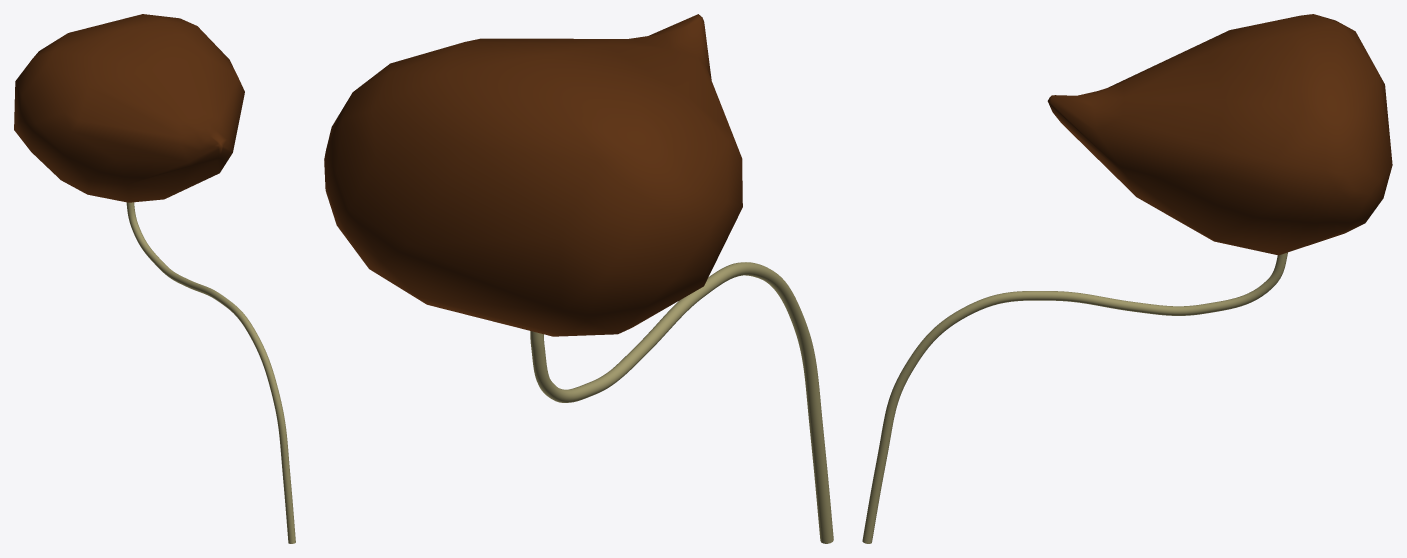
The model's file is Vejiga.fbx.
3 renders of one model, left to right at view 1: azimuth 30°, elevation 25°; view 2: azimuth 150°, elevation 25°; view 3: azimuth 270°, elevation 25°, orthographic. The views are drawn at different scales.
Parts seen in each view (by area): view 1: Vejiga; view 2: Vejiga; view 3: Vejiga.
Boxes of the visible parts, x1,y1,x2,y2 form: Vejiga: [14, 14, 295, 543]; Vejiga: [324, 14, 833, 543]; Vejiga: [862, 14, 1392, 543].
Bounding box in the file's own units: 7.49 × 13.72 × 13.04.
